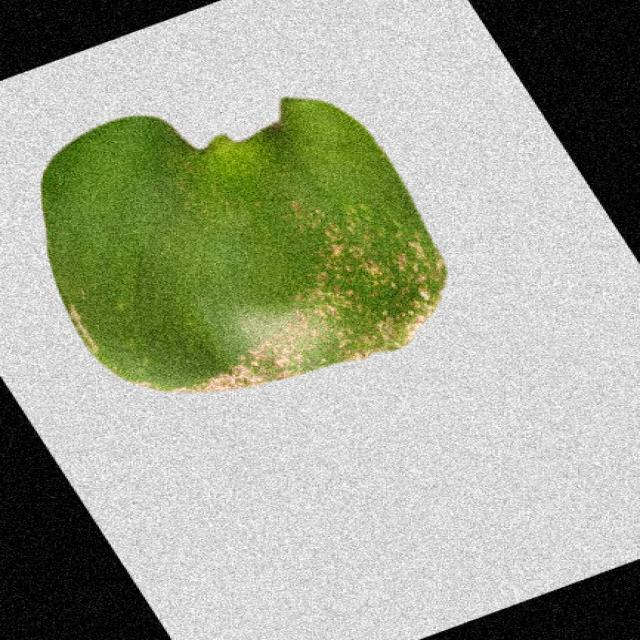daun berpenyakit bercak: (42, 99, 445, 391)
